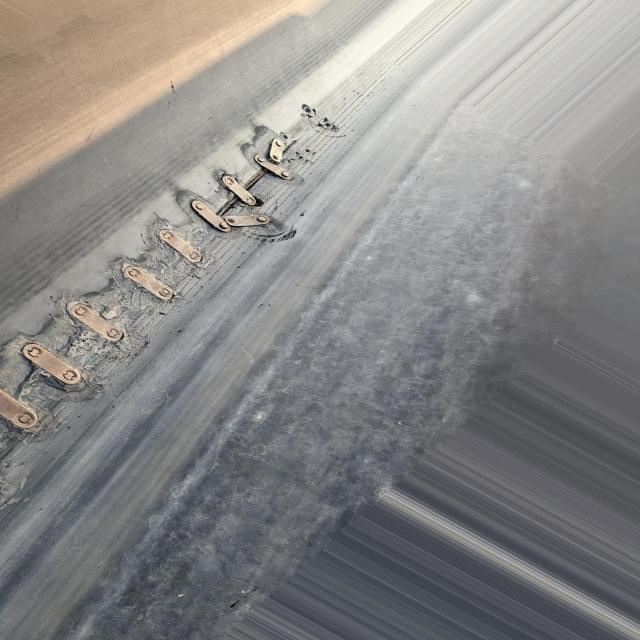patch work: (0, 94, 347, 464)
